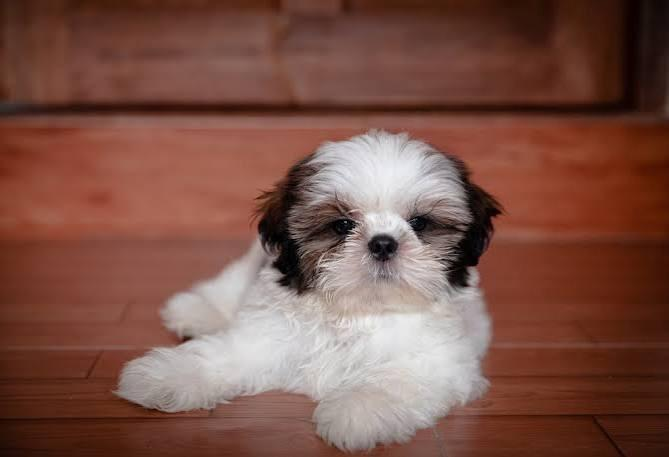puppy-dog: (115, 123, 509, 453)
